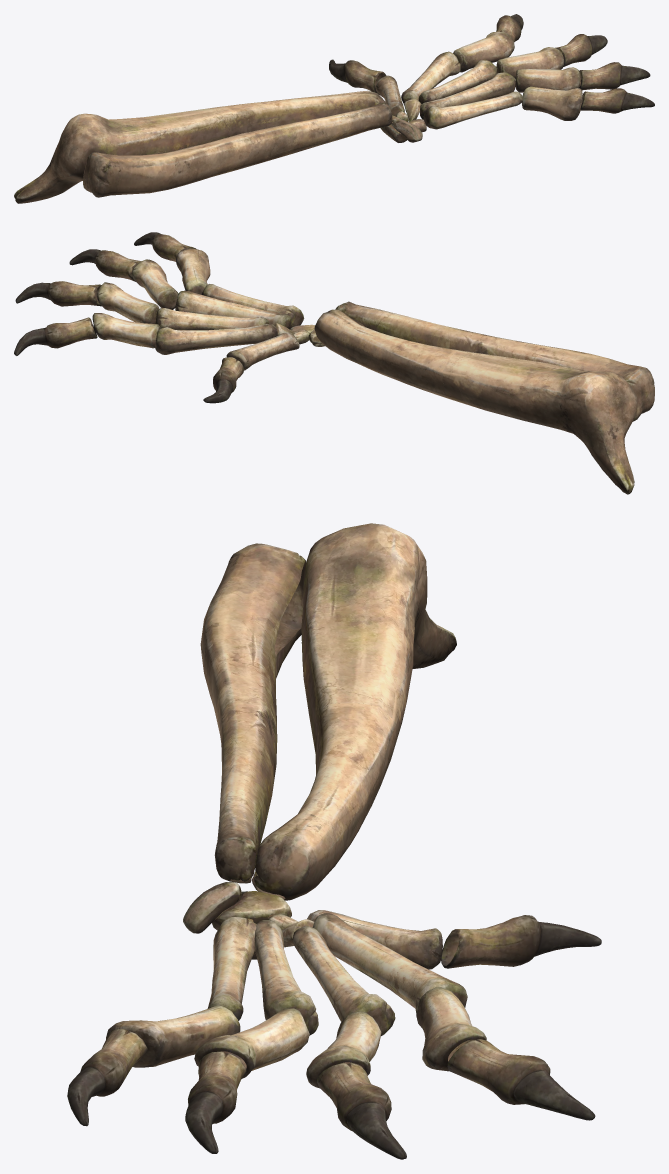
3 views of the same model, one above another, from view 1: azimuth 30°, elevation 25°; view 2: azimuth 150°, elevation 25°; view 3: azimuth 270°, elevation 25° (orthographic). The views are drawn at different scales.
Visible parts, largest first — view 1: SM_Dragon_Hand_02_LOD0; view 2: SM_Dragon_Hand_02_LOD0; view 3: SM_Dragon_Hand_02_LOD0.
Boxes of the visible parts, x1,y1,x2,y2 form: SM_Dragon_Hand_02_LOD0: (14,14,654,203); SM_Dragon_Hand_02_LOD0: (14,232,654,494); SM_Dragon_Hand_02_LOD0: (67,523,601,1159).
Size of the model in its own units: 27.53 by 3.96 by 10.99.
4 materials, 4 textured.
